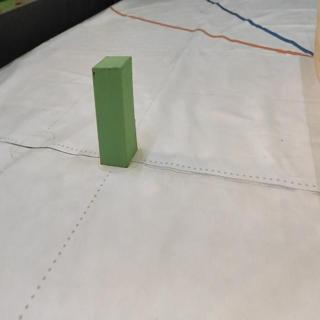greenbox: (92, 56, 136, 167)
